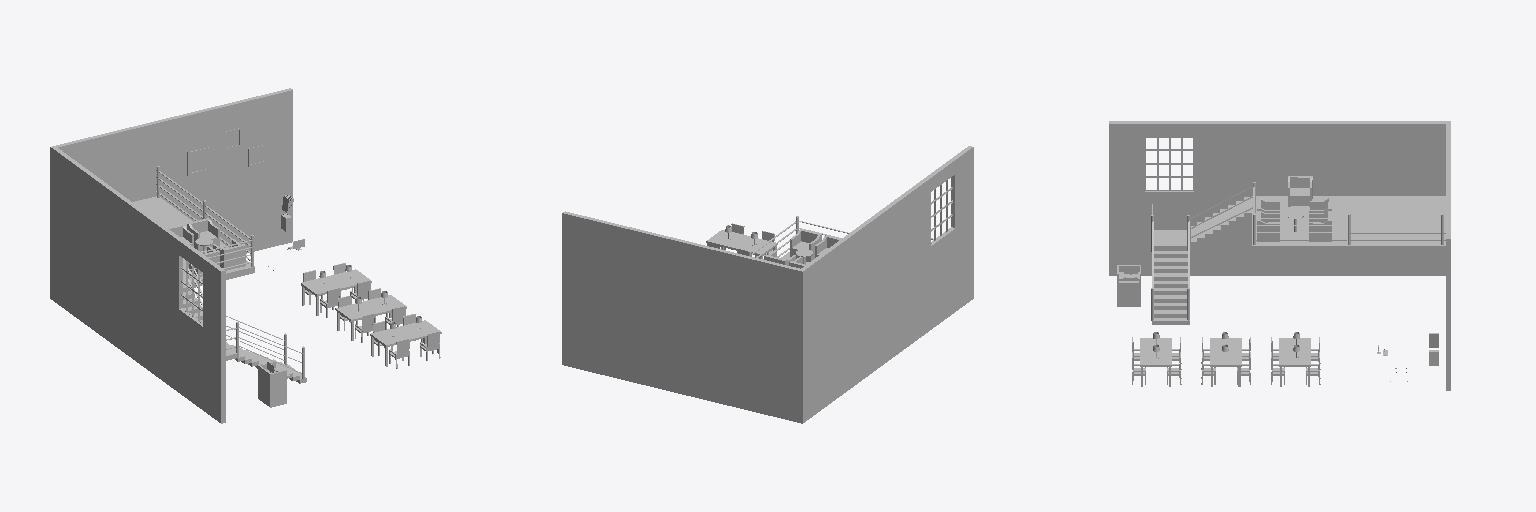
The picture shows the model from 3 angles: view 1: azimuth 30°, elevation 25°; view 2: azimuth 150°, elevation 25°; view 3: azimuth 270°, elevation 25°; orthographic projection.
Visible parts, largest first — view 1: wall1_wall, table_and_chair_Cube_050, armchairs_Cube_002, mezzanine_Plane_012, stairway, pictures_Plane_010, table_computer_Plane_009, stairs_Cube_011, window, Cylinder; view 2: wall1_wall, armchairs_Cube_002, table_and_chair_Cube_050, window; view 3: wall1_wall, mezzanine_Plane_012, table_and_chair_Cube_050, stairs_Cube_011, armchairs_Cube_002, stairway, window, pictures_Plane_010, table_computer_Plane_009, Cylinder.
Boxes of the visible parts, x1,y1,x2,y2 form: wall1_wall: [50, 88, 292, 423]; table_and_chair_Cube_050: [301, 263, 441, 368]; armchairs_Cube_002: [168, 218, 245, 276]; mezzanine_Plane_012: [133, 196, 254, 287]; stairway: [156, 170, 302, 373]; pictures_Plane_010: [187, 128, 265, 175]; table_computer_Plane_009: [258, 361, 290, 407]; stairs_Cube_011: [183, 284, 306, 383]; window: [178, 253, 203, 328]; Cylinder: [157, 166, 304, 379]; wall1_wall: [562, 146, 973, 423]; armchairs_Cube_002: [764, 229, 840, 268]; table_and_chair_Cube_050: [706, 223, 777, 258]; window: [930, 171, 956, 248]; wall1_wall: [1109, 121, 1450, 390]; mezzanine_Plane_012: [1252, 196, 1445, 251]; table_and_chair_Cube_050: [1132, 337, 1320, 386]; stairs_Cube_011: [1152, 197, 1251, 324]; armchairs_Cube_002: [1257, 176, 1331, 241]; stairway: [1152, 186, 1445, 287]; window: [1143, 136, 1195, 193]; pictures_Plane_010: [1207, 144, 1274, 173]; table_computer_Plane_009: [1117, 265, 1140, 306]; Cylinder: [1151, 182, 1443, 320].
Size of the model in its own units: 8.66 by 5.24 by 10.66.